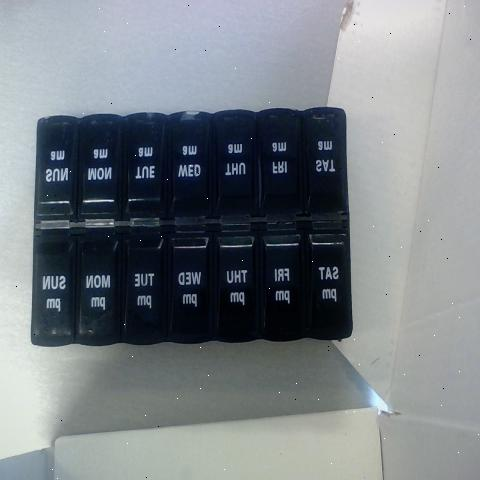FRI-am: (262, 116, 298, 210)
FRI-pm: (262, 226, 300, 334)
MON-am: (80, 114, 123, 218)
MON-pm: (77, 226, 118, 337)
SAT-am: (305, 117, 344, 214)
SAT-pm: (308, 225, 347, 335)
SUN-am: (37, 119, 72, 216)
SUN-pm: (35, 225, 73, 337)
THU-am: (222, 111, 263, 206)
THU-pm: (216, 227, 256, 335)
TUE-am: (127, 116, 167, 220)
TUE-pm: (122, 231, 166, 342)
WED-am: (170, 114, 211, 218)
WED-pm: (169, 228, 211, 341)
